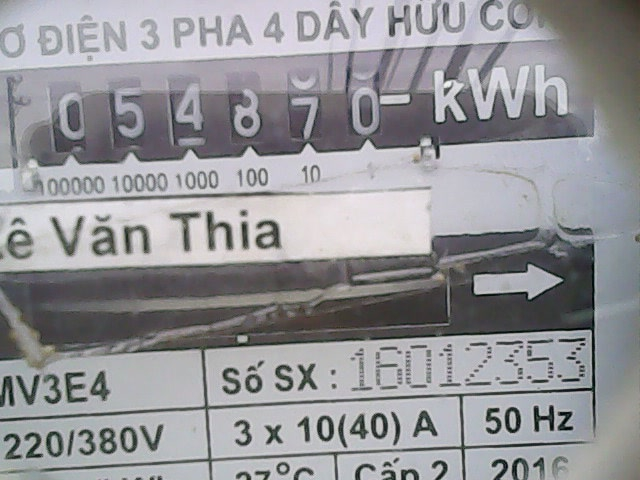phy_plate: (34, 58, 390, 161)
